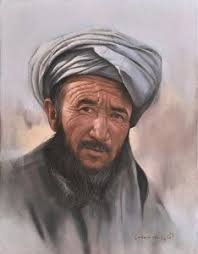middle_eastern_male: (57, 70, 136, 174)
